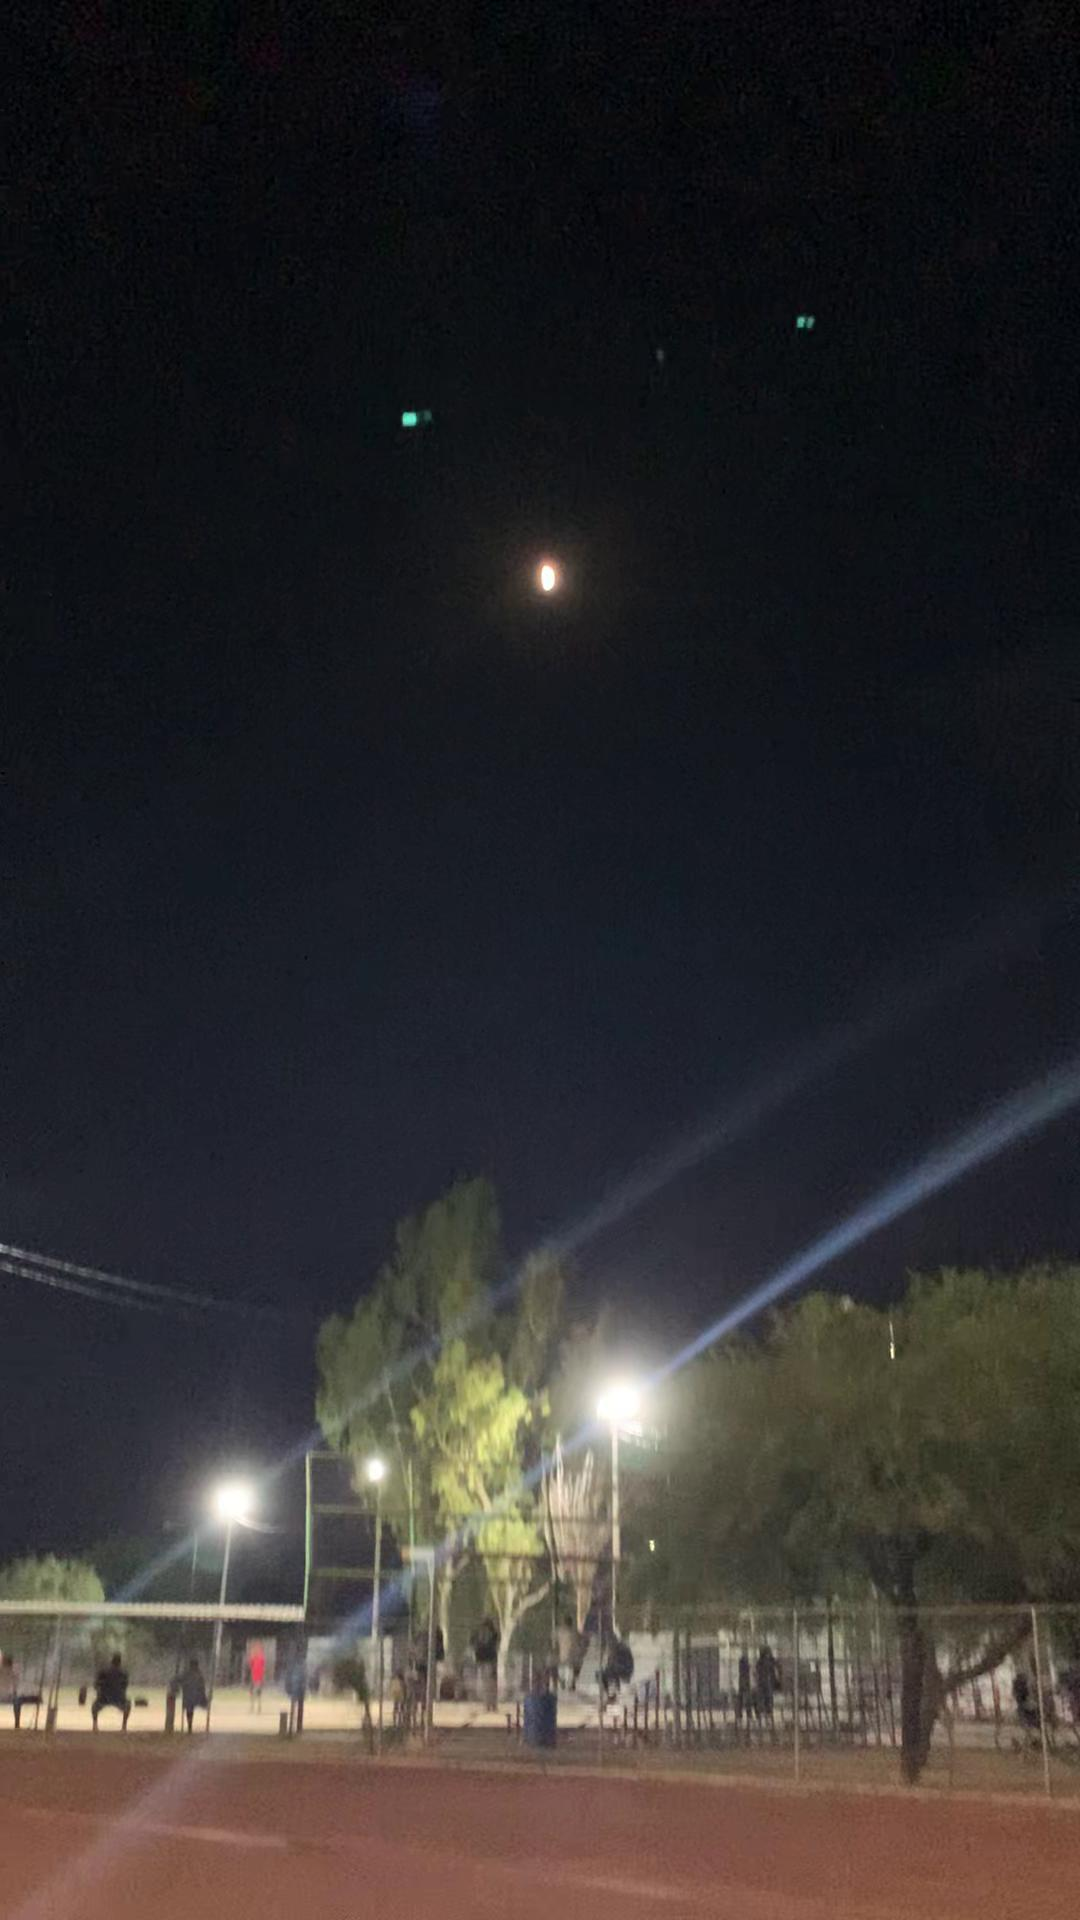moon: (513, 541, 583, 607)
